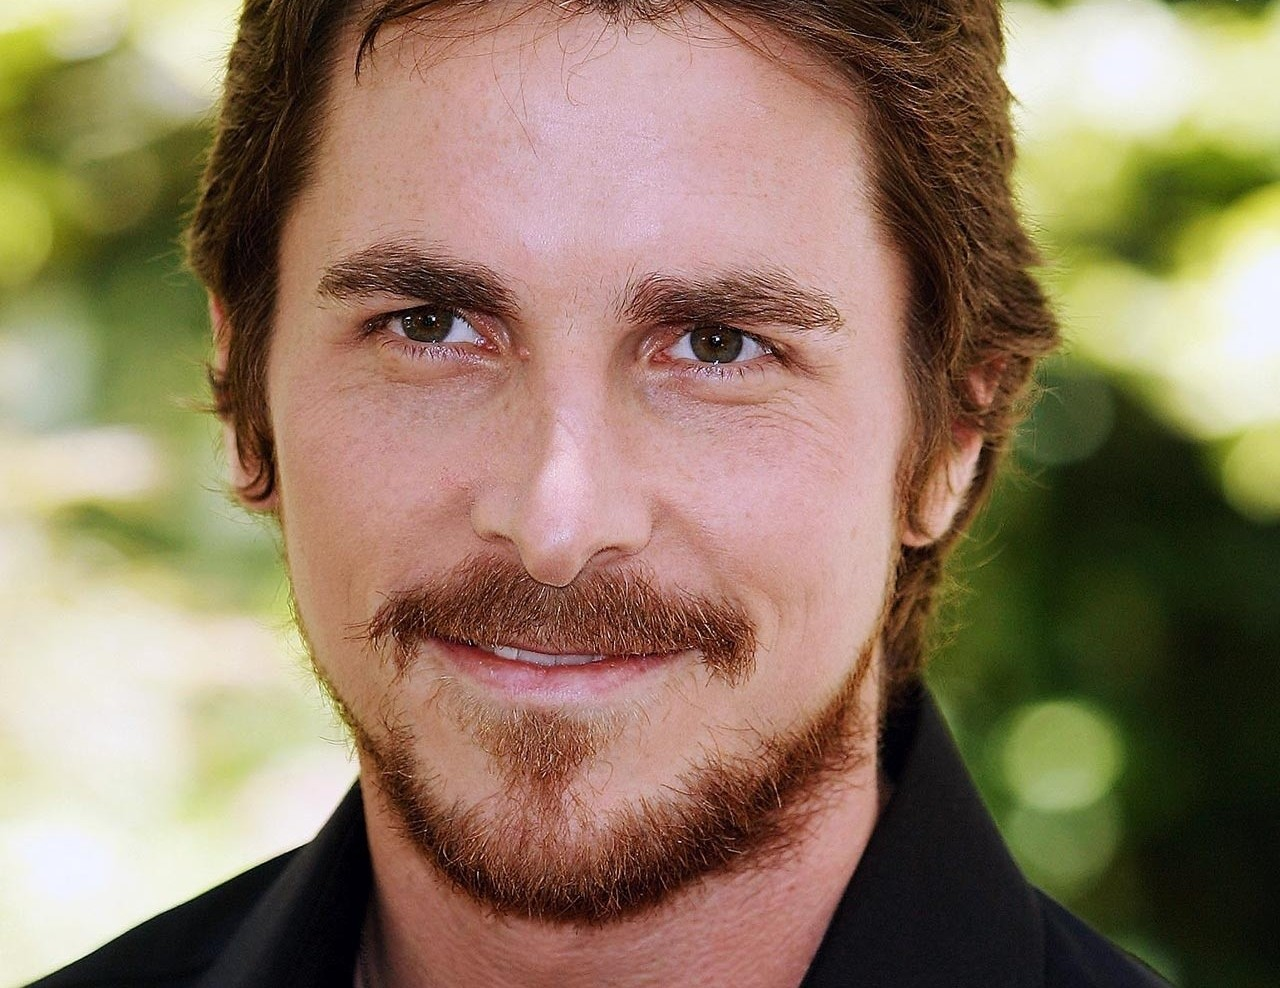beard: (336, 556, 890, 930)
